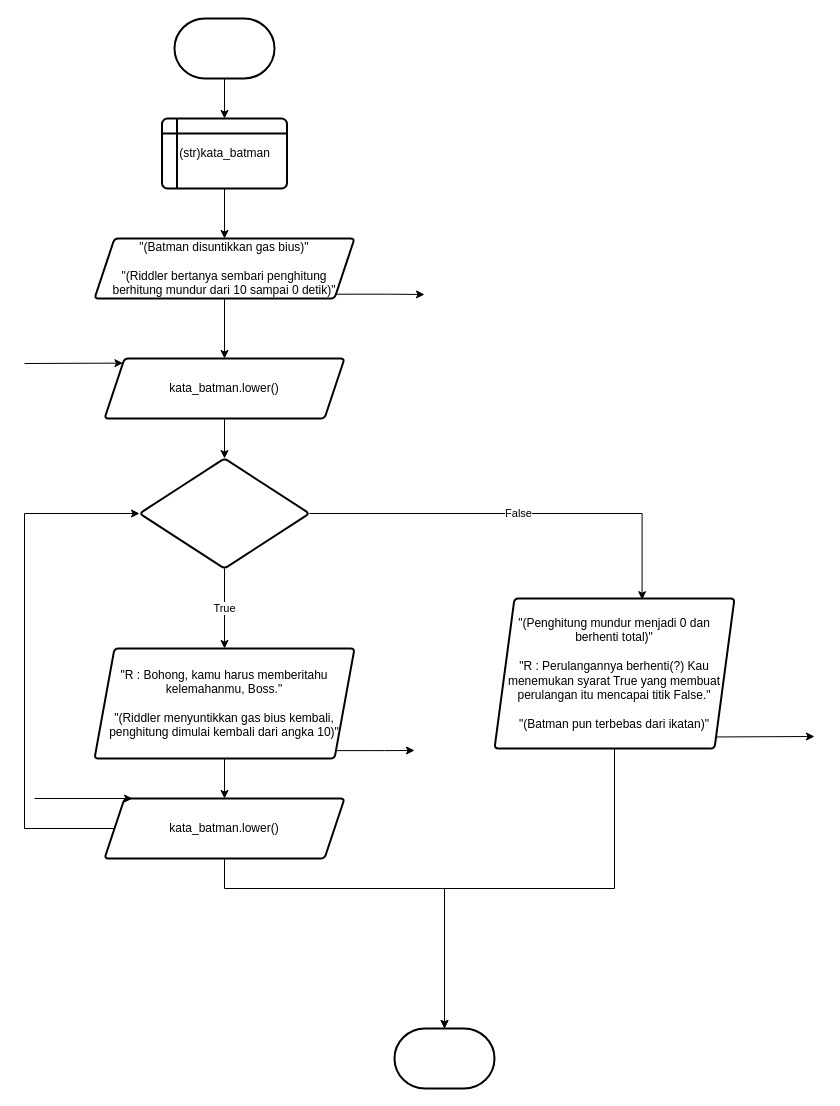
The diagram is 840 pixels wide and 1106 high, and some of its shapes have lost their labels. Each missing label, with the centre of its shape:
End: (444,1058)
kata_batman != "kelemahan":: (224,513)
Start: (224,48)
